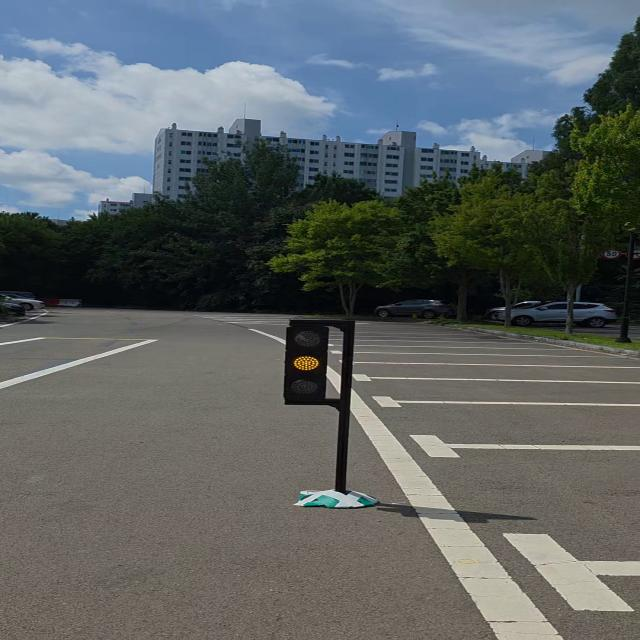yellow: (283, 316, 332, 406)
